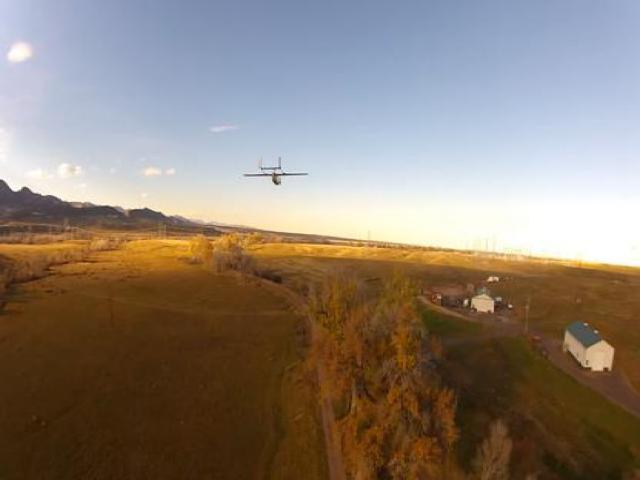uav: (242, 156, 309, 184)
